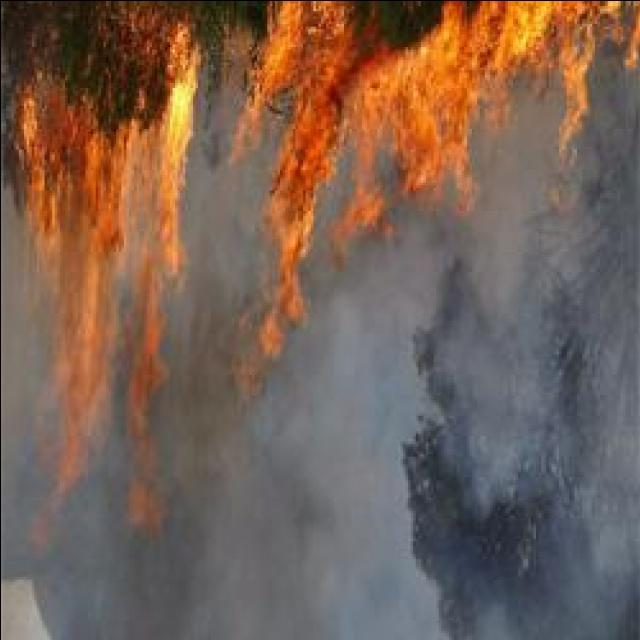fire: (247, 0, 485, 198), (458, 0, 640, 110), (18, 95, 122, 246), (156, 70, 198, 270)
smoke: (409, 207, 556, 518)
